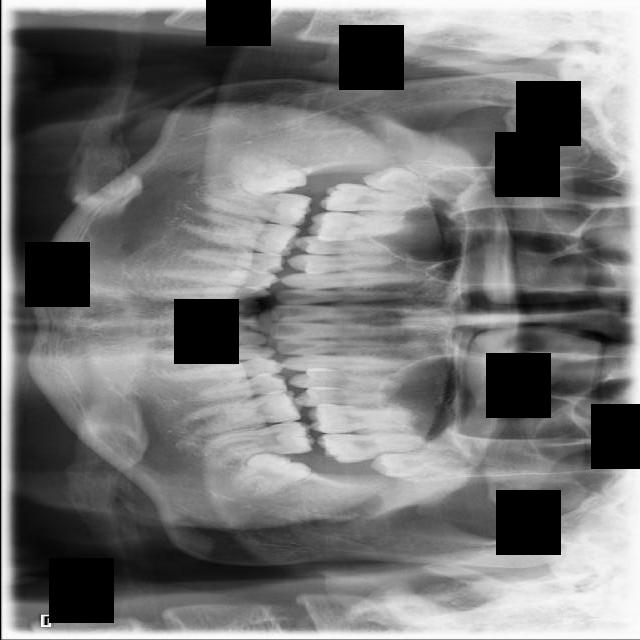3M ESPE Implant: (360, 162, 452, 204)
73: (65, 594, 76, 598)
BioHorizons Implant: (315, 431, 430, 464)
BioLife Implant: (369, 450, 459, 481)
Biomet 3i Implant: (220, 435, 313, 514)
Blue Sky Bio Implant: (204, 419, 316, 463)
Caries: (317, 190, 428, 213)
Implant: (200, 186, 314, 228)
Keystone Dental Implant: (226, 145, 308, 200)
